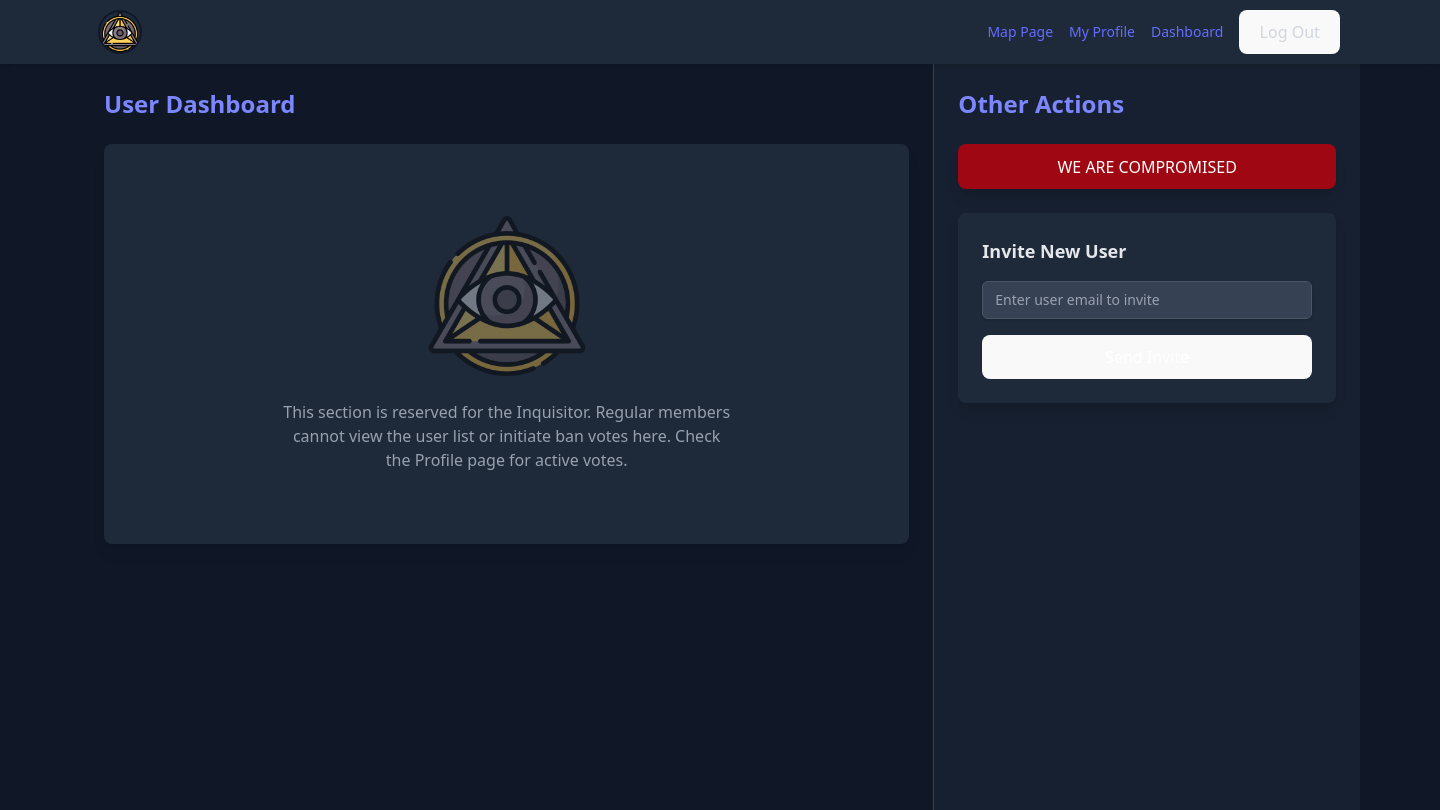
Compromised workflow › should open the modal when "WE ARE COMPROMISED" is clicked
Click the button "WE ARE COMPROMISED" at point(1147, 167), box top-left (958, 144), bottom-right (1336, 189)
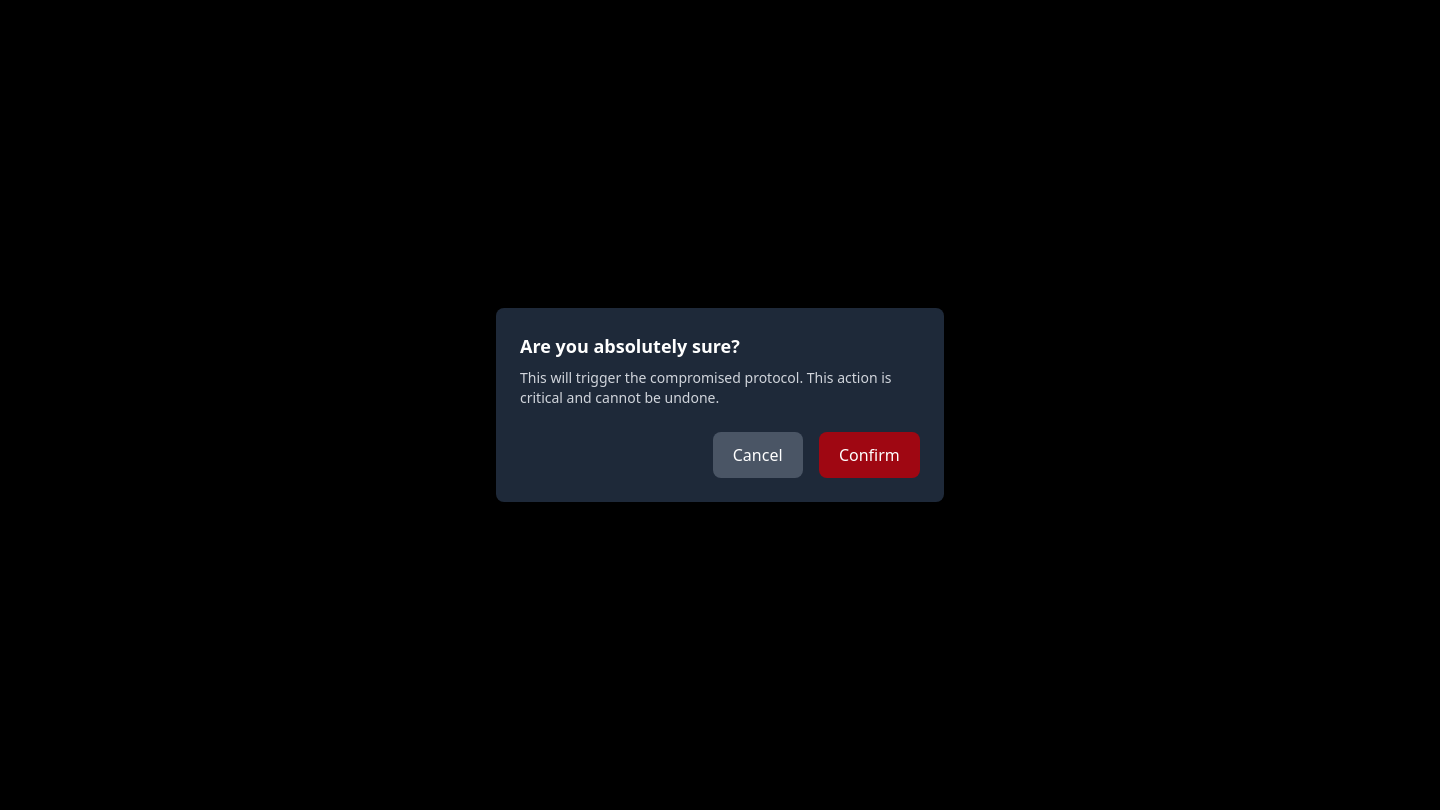
Now the heading "Are you absolutely sure?" is shown, box top-left (520, 334), bottom-right (740, 358)
Now the text "This action is critical" is shown, box top-left (520, 368), bottom-right (892, 407)
Now the button "Confirm" is shown, box top-left (819, 432), bottom-right (920, 478)
